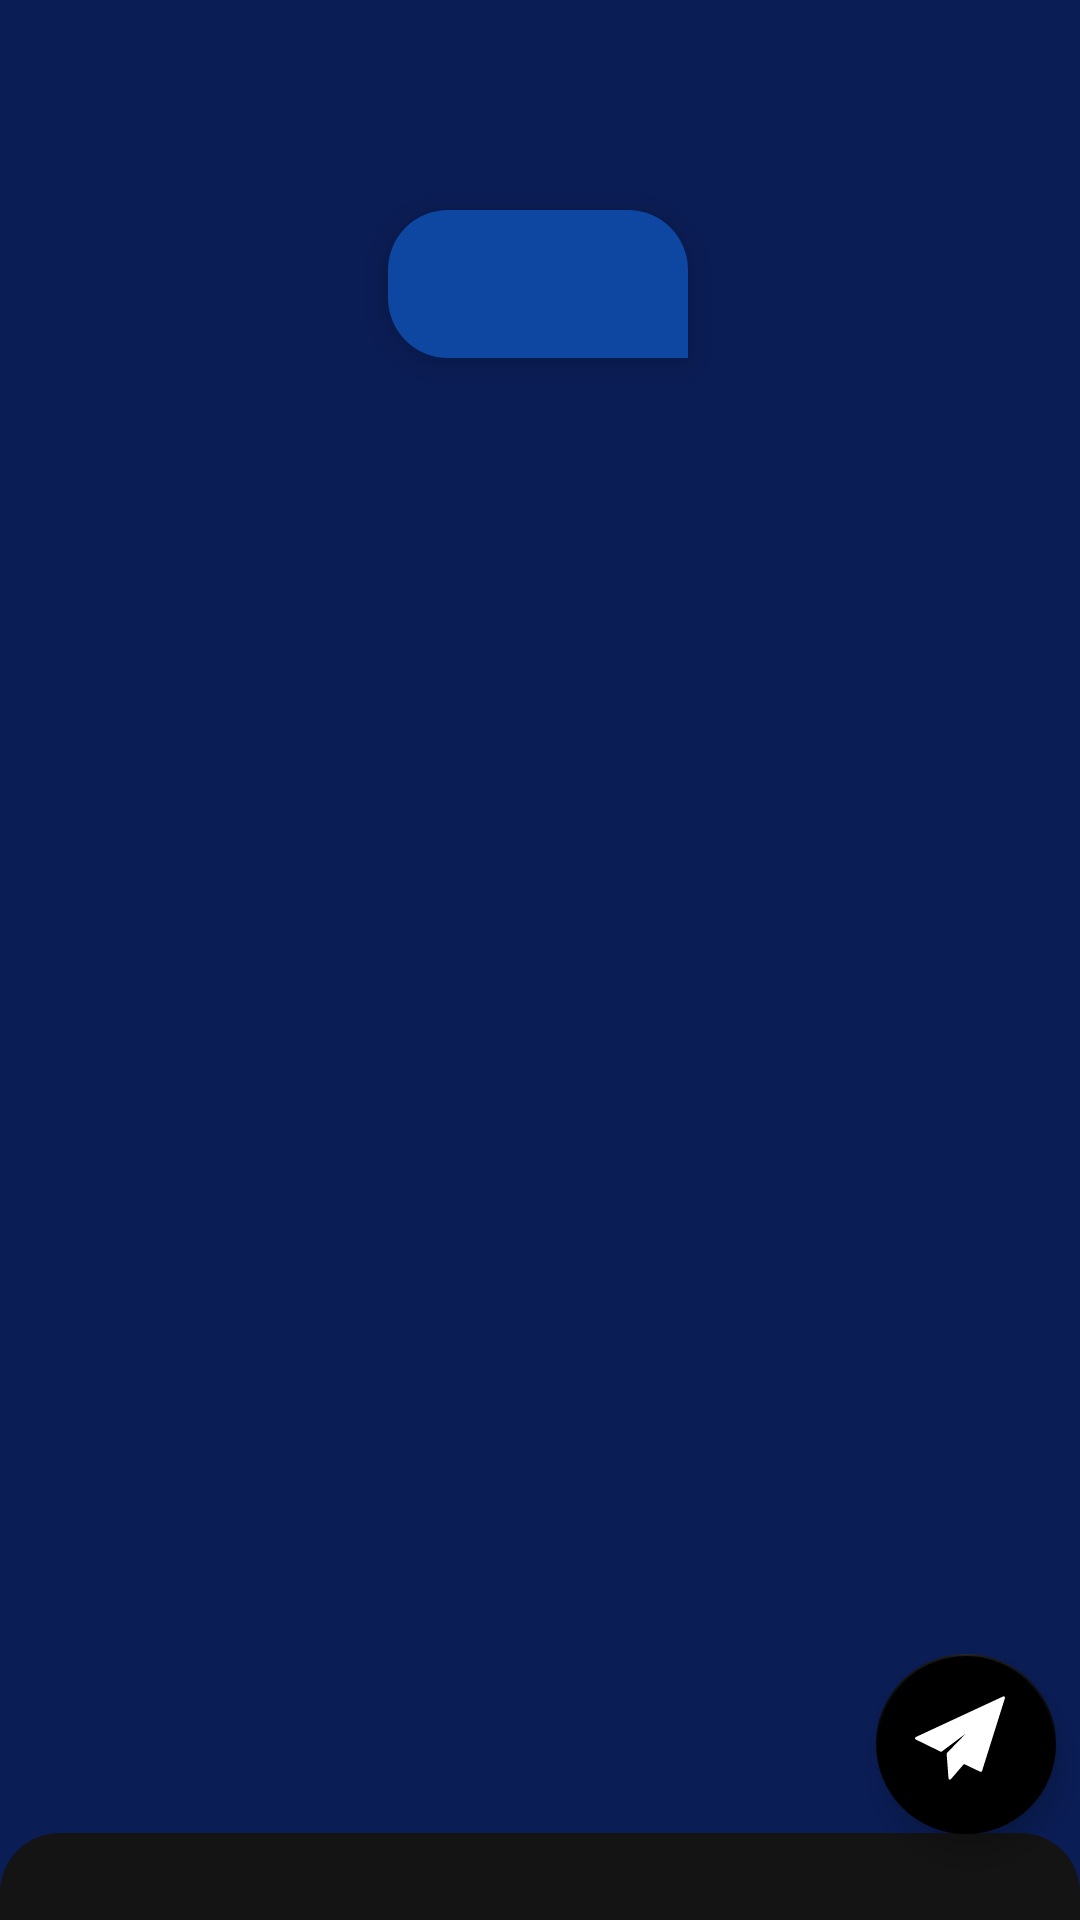

Screen size 1080×1920. Icon name, then its box in pixels as region(x1, y1, x2, y2):
submit: region(876, 1654, 1056, 1834)
